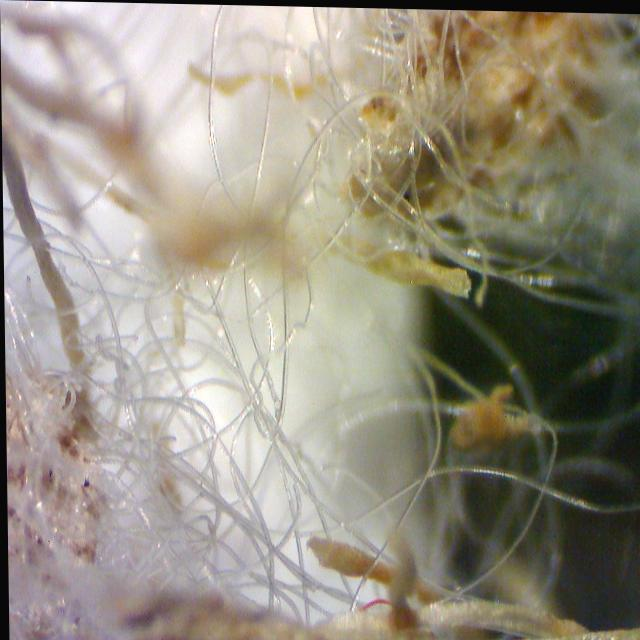microplastic: (11, 269, 302, 630), (306, 11, 478, 256), (306, 446, 640, 536)
